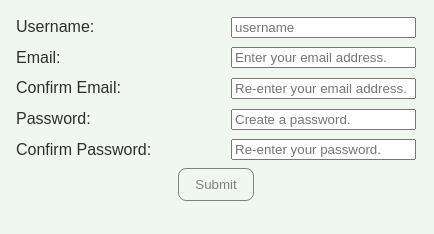
Test case: Signup Form › can show error for invalid email
Type "p" into the field labelled "Email:".
click(324, 58); type("p")  # box [231,47,416,68]
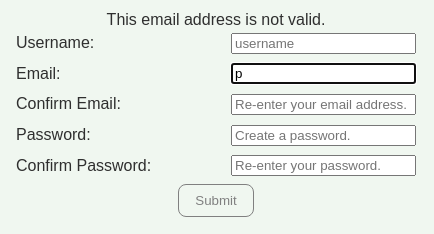
Expected: the text "This email address is not valid." is shown, [107,12,325,28]
